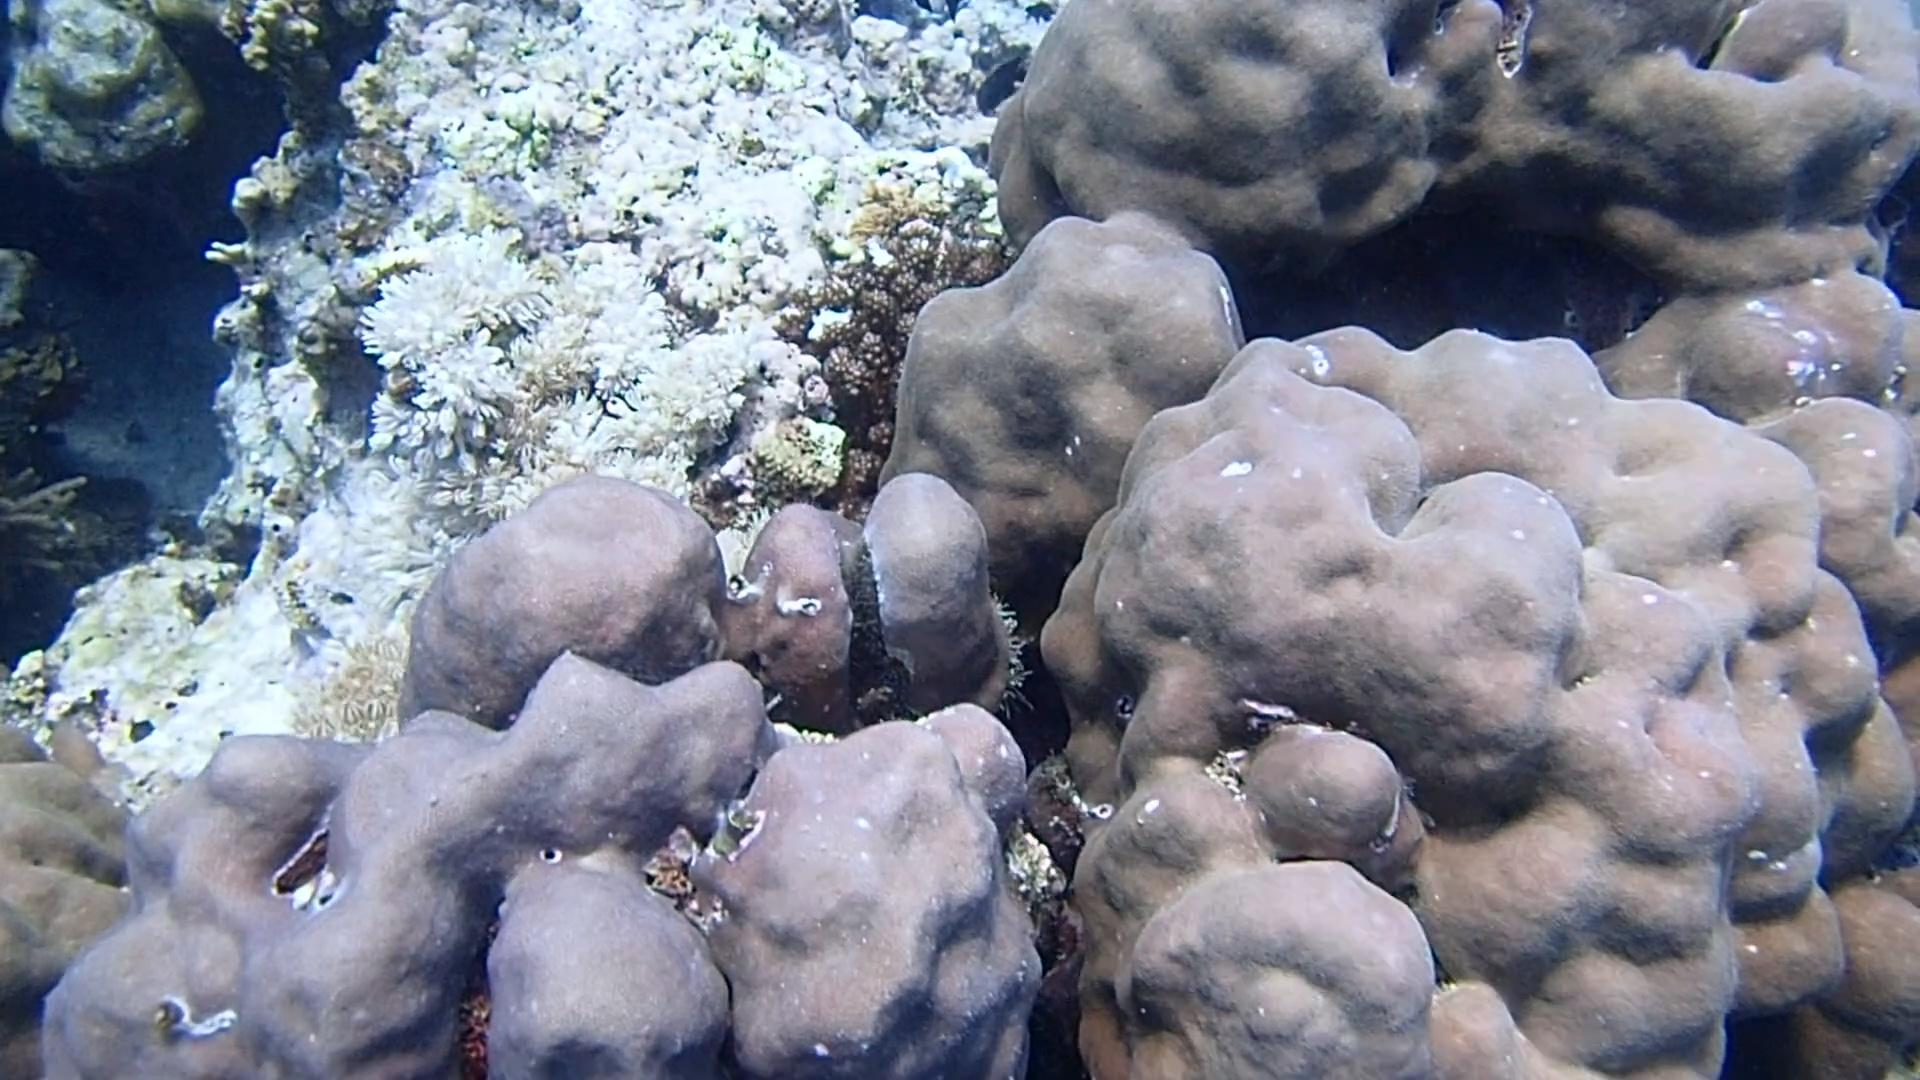Dark Fish: (967, 53, 1036, 115), (1023, 0, 1058, 25)
